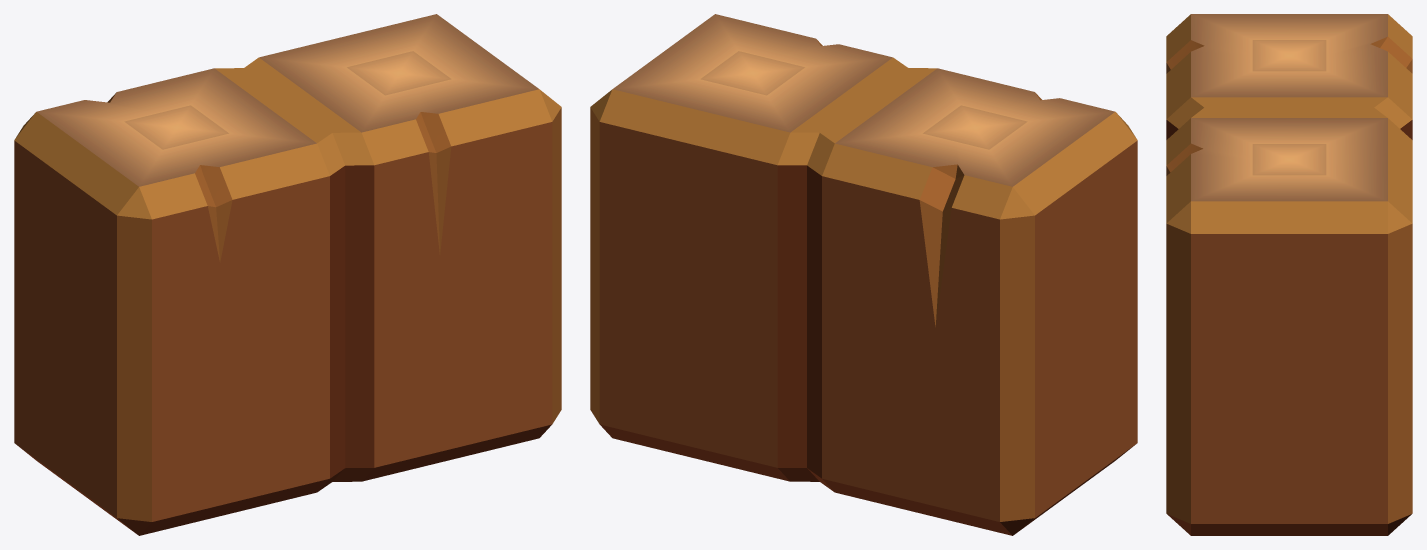
The model's file is m_kub_wood_halfMid.FBX.
3 renders of one model, left to right at view 1: azimuth 30°, elevation 25°; view 2: azimuth 150°, elevation 25°; view 3: azimuth 270°, elevation 25°, orthographic. The views are drawn at different scales.
Visible parts, largest first — view 1: m_kub_wood_halfMid; view 2: m_kub_wood_halfMid; view 3: m_kub_wood_halfMid.
Boxes of the visible parts, <box> form: m_kub_wood_halfMid: <box>14,14,561,535</box>; m_kub_wood_halfMid: <box>590,14,1137,535</box>; m_kub_wood_halfMid: <box>1166,14,1412,535</box>.
Bounding box in the file's own units: 2 × 1.5 × 1.
